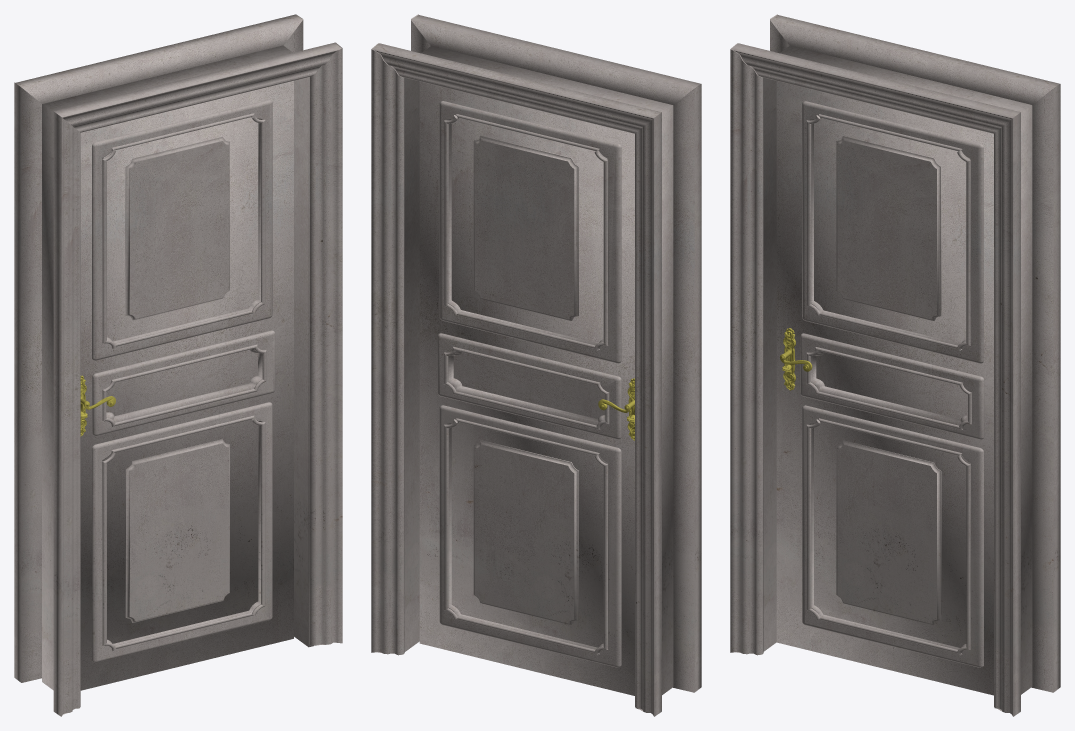
Rendered from door.glb.
The picture shows the model from 3 angles, left to right: view 1: azimuth 30°, elevation 25°; view 2: azimuth 150°, elevation 25°; view 3: azimuth 330°, elevation 25°; orthographic projection.
Visible parts, largest first — view 1: OBJ; view 2: OBJ; view 3: OBJ.
Boxes of the visible parts, bbox=[...] form: OBJ: bbox=[14, 14, 342, 716]; OBJ: bbox=[371, 14, 701, 716]; OBJ: bbox=[730, 14, 1060, 716].
Bounding box in the file's own units: 1.04 × 2.12 × 0.3018.
Materials: 2 (1 with a texture image).
